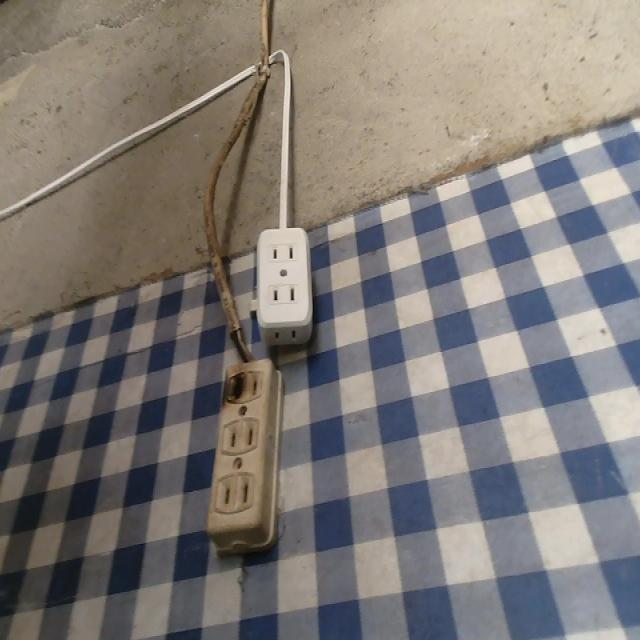-: (219, 367, 250, 405)
